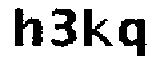3: (48, 7, 78, 51)
h: (7, 2, 46, 51)
k: (83, 6, 115, 53)
q: (119, 16, 150, 60)
